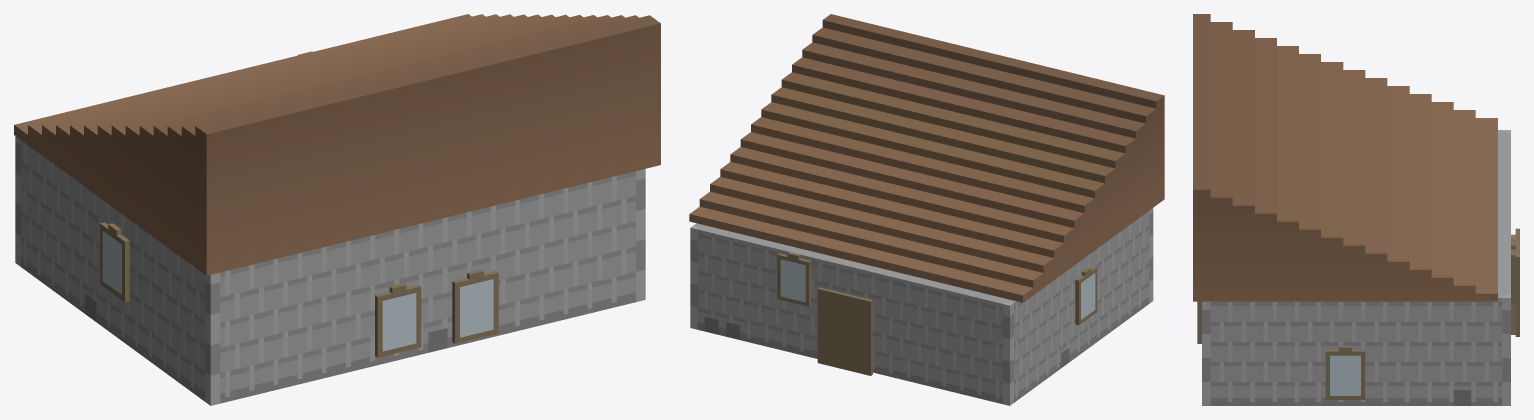
The model's file is alfareria_02.glb.
3 views of the same model, side by side, from view 1: azimuth 30°, elevation 25°; view 2: azimuth 150°, elevation 25°; view 3: azimuth 270°, elevation 25° (orthographic). The views are drawn at different scales.
Parts seen in each view (by area): view 1: alfareria_02; view 2: alfareria_02; view 3: alfareria_02.
Part boxes in pixels (x1=…): alfareria_02: x1=14, y1=14, x2=660, y2=405; alfareria_02: x1=689, y1=14, x2=1164, y2=405; alfareria_02: x1=1193, y1=14, x2=1519, y2=405.
Size of the model in its own units: 9.4 by 5.5 by 7.4.
